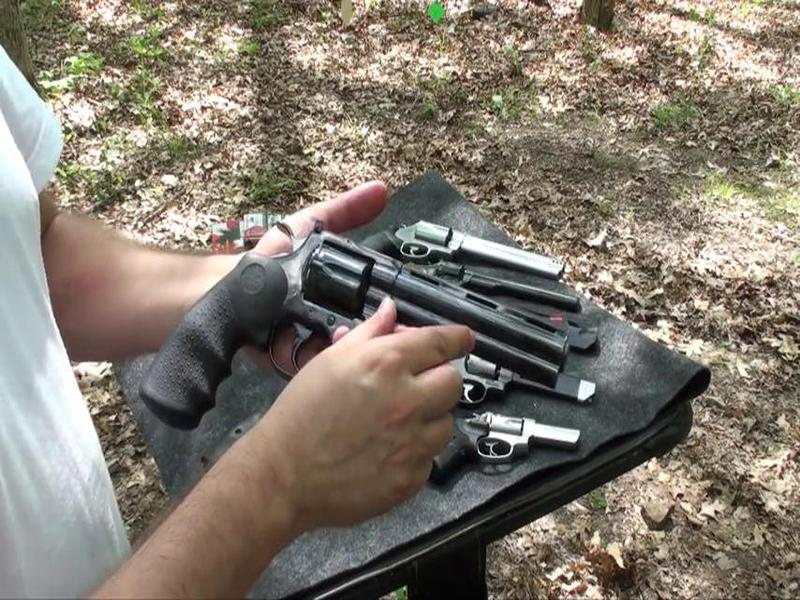Revolver: (144, 220, 570, 451)
